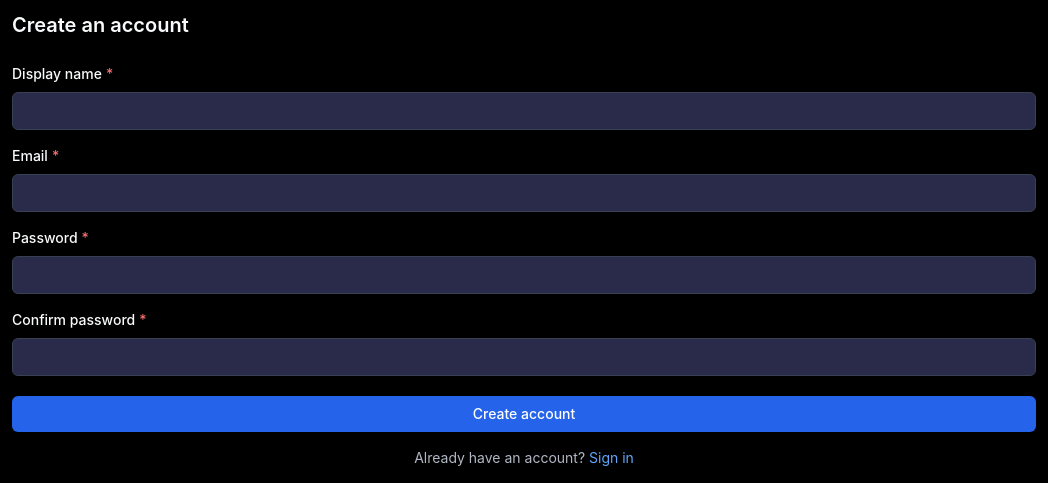
Test: RegisterPage › shows the "Check your email" confirmation when session is null after signUp
Type "Jane" into the field labelled "Display name*" at (524, 110), box [12,92,1036,130]
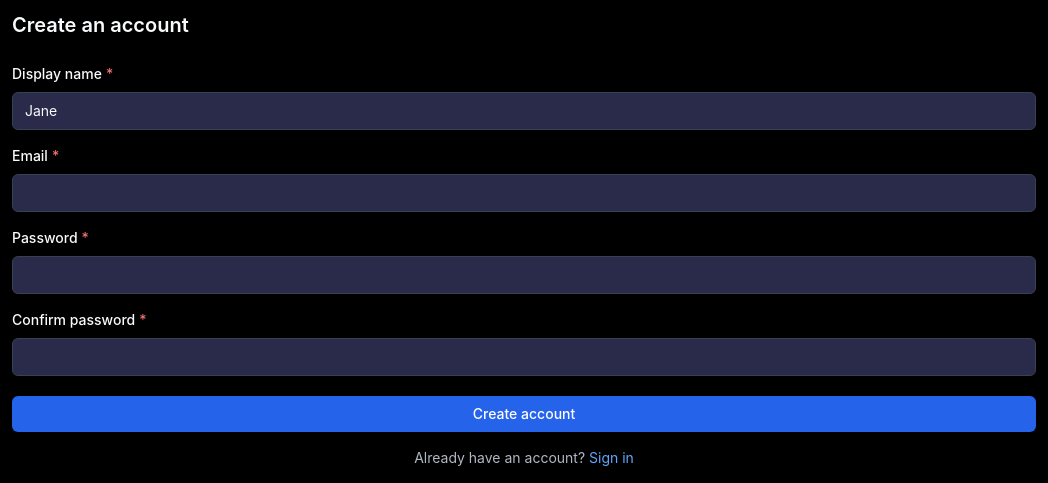
Type "jane@example.com" into the field labelled "Email*" at (524, 192), box [12,174,1036,212]
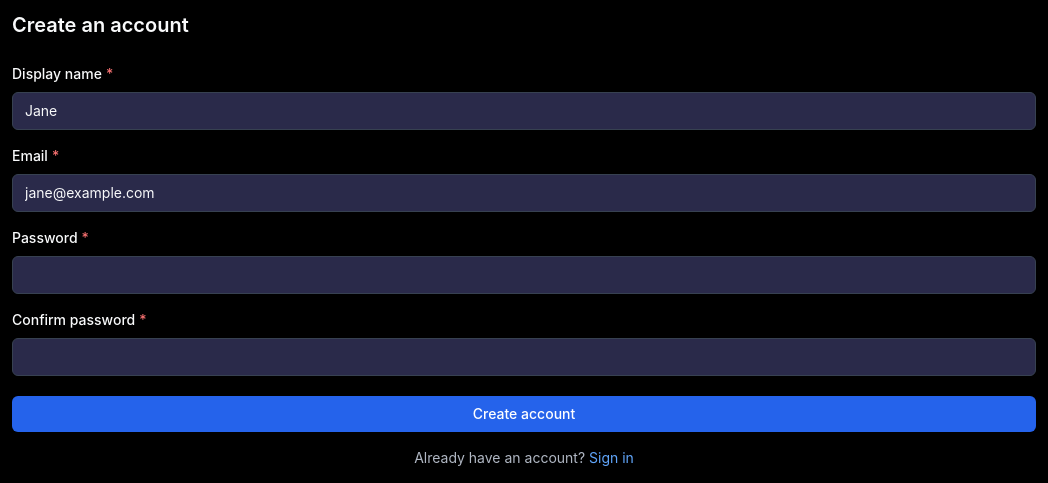
Type "password123" into the password field labelled "Password*" at (524, 274), box [12,256,1036,294]
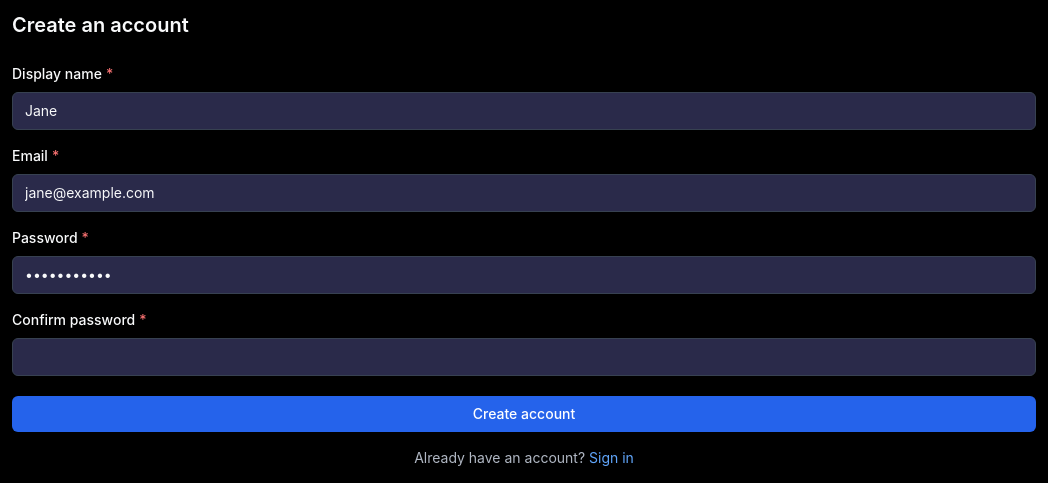
Type "password123" into the password field labelled "Confirm password*" at (524, 356), box [12,338,1036,376]
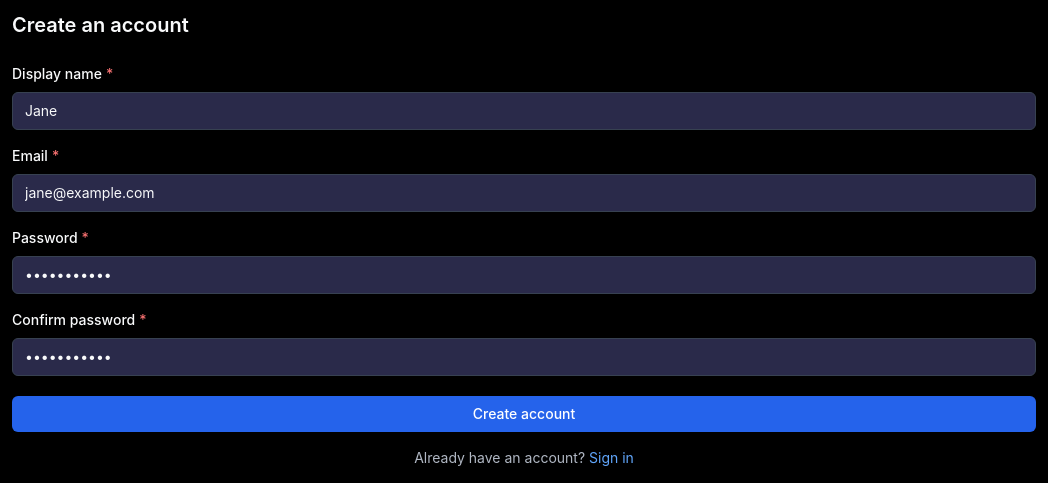
Click the button "Create account" at (524, 414), box [12,396,1036,432]
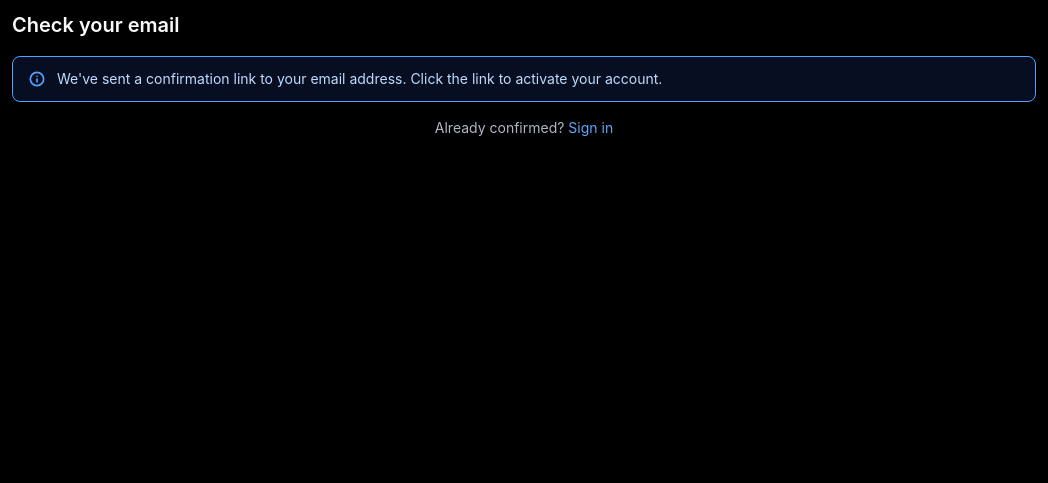
Expected: the heading "Check your email" is shown, [12,13,180,37]
Expected: the text "confirmation link" is shown, [57,70,662,86]
